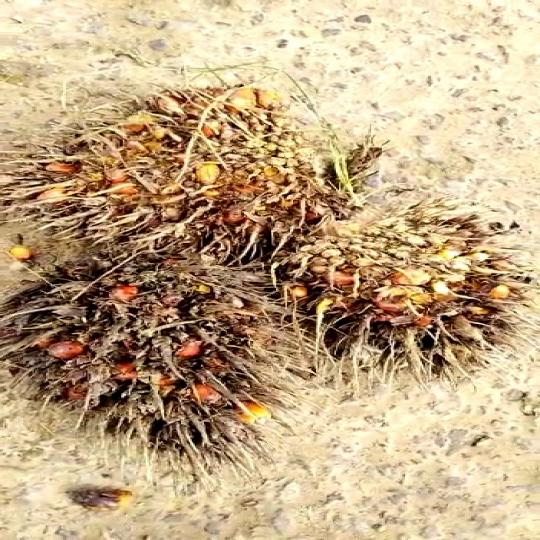terlalu masak: (0, 88, 389, 271), (0, 247, 296, 455), (252, 207, 540, 368)
